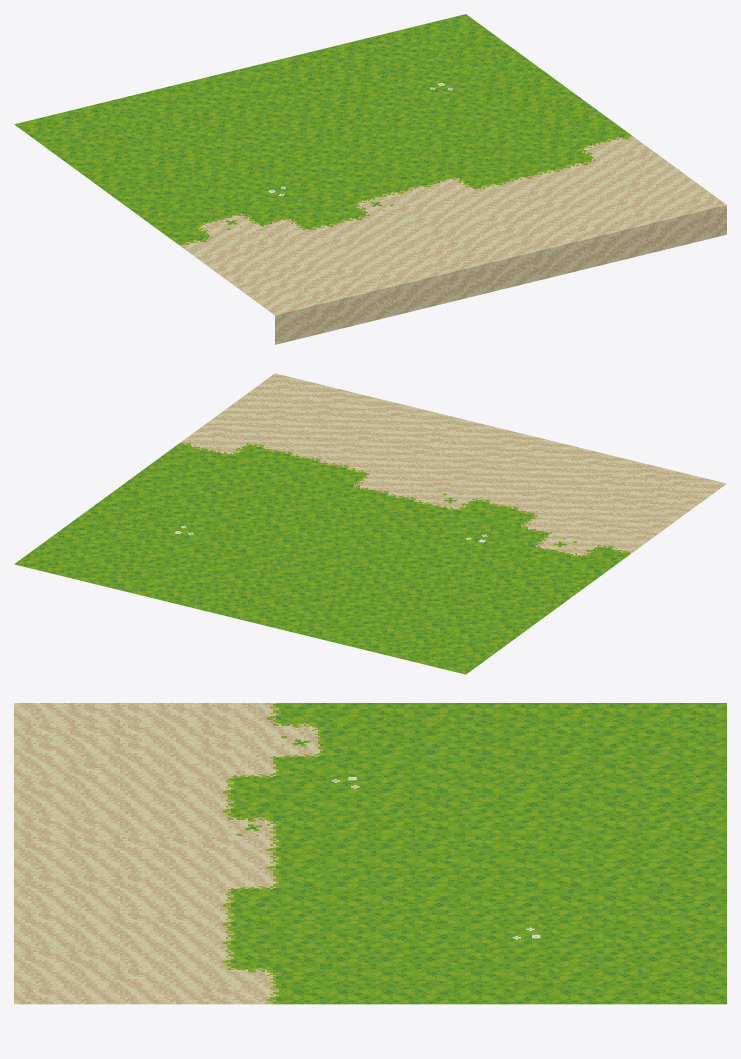
The model's file is chunk2.glb.
3 views of the same model, one above another, from view 1: azimuth 30°, elevation 25°; view 2: azimuth 150°, elevation 25°; view 3: azimuth 270°, elevation 25° (orthographic). The views are drawn at different scales.
Visible parts, largest first — view 1: main; view 2: main; view 3: main.
Boxes of the visible parts, bbox=[...] form: main: bbox=[14, 14, 726, 344]; main: bbox=[14, 373, 726, 674]; main: bbox=[14, 703, 726, 1004].
Size of the model in its own units: 16 by 1.13 by 16.
Materials: 1 (1 with a texture image).
